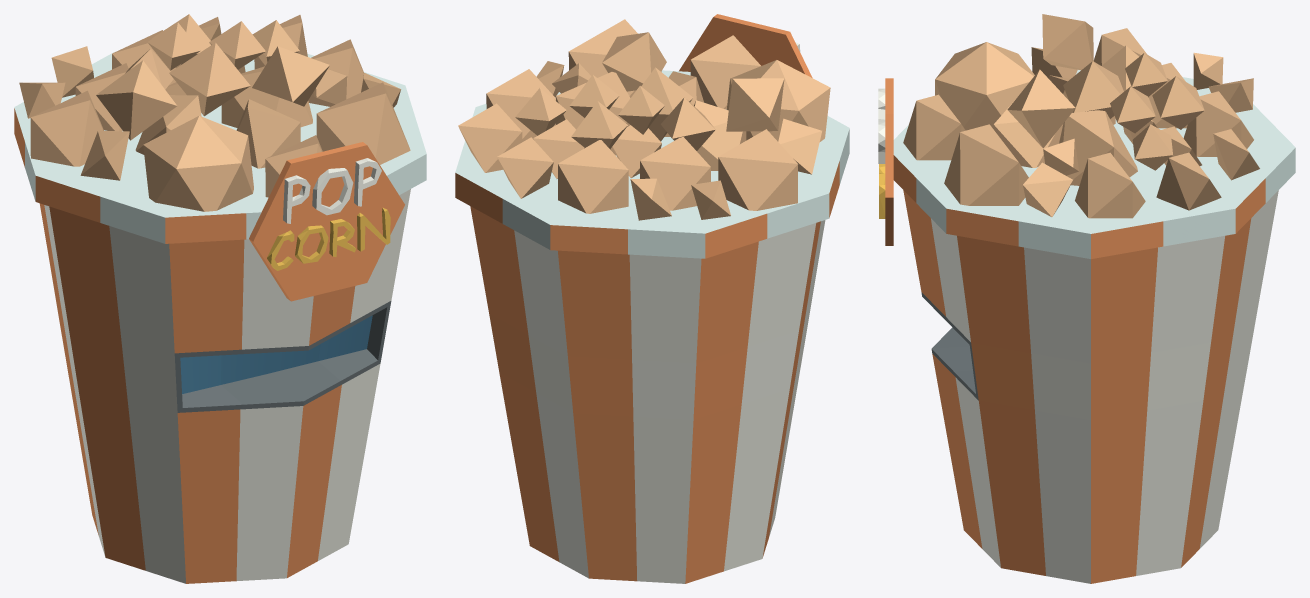
File: PopCorn_Shop.fbx
3 renders of one model, left to right at view 1: azimuth 30°, elevation 25°; view 2: azimuth 150°, elevation 25°; view 3: azimuth 270°, elevation 25°, orthographic. The views are drawn at different scales.
Visible parts, largest first — view 1: PopCorn_Shop; view 2: PopCorn_Shop; view 3: PopCorn_Shop.
Part boxes in pixels (left/top/right/bottom): PopCorn_Shop: left=14, top=14, right=426, bottom=583; PopCorn_Shop: left=455, top=14, right=849, bottom=583; PopCorn_Shop: left=878, top=14, right=1295, bottom=583.
Size of the model in its own units: 161 by 206 by 164.
